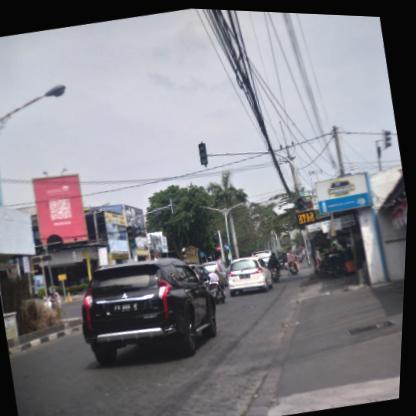green: (197, 138, 210, 164), (126, 223, 138, 248)
